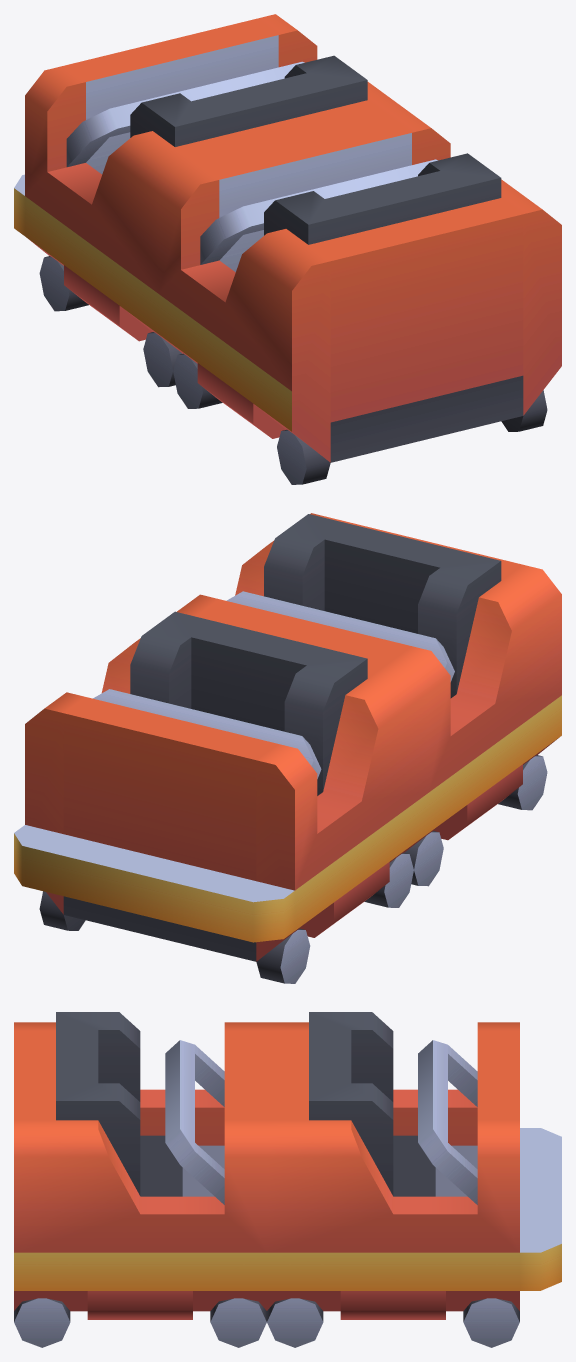
The model's file is coaster-train.glb.
3 views of the same model, one above another, from view 1: azimuth 30°, elevation 25°; view 2: azimuth 150°, elevation 25°; view 3: azimuth 270°, elevation 25° (orthographic). The views are drawn at different scales.
Visible parts, largest first — view 1: coaster-train; view 2: coaster-train; view 3: coaster-train.
Boxes of the visible parts, x1=… form: coaster-train: x1=14, y1=14, x2=561, y2=484; coaster-train: x1=14, y1=513, x2=561, y2=983; coaster-train: x1=14, y1=1012, x2=561, y2=1347.
Size of the model in its own units: 0.7001 by 0.6171 by 1.3.
Materials: 1 (1 with a texture image).
